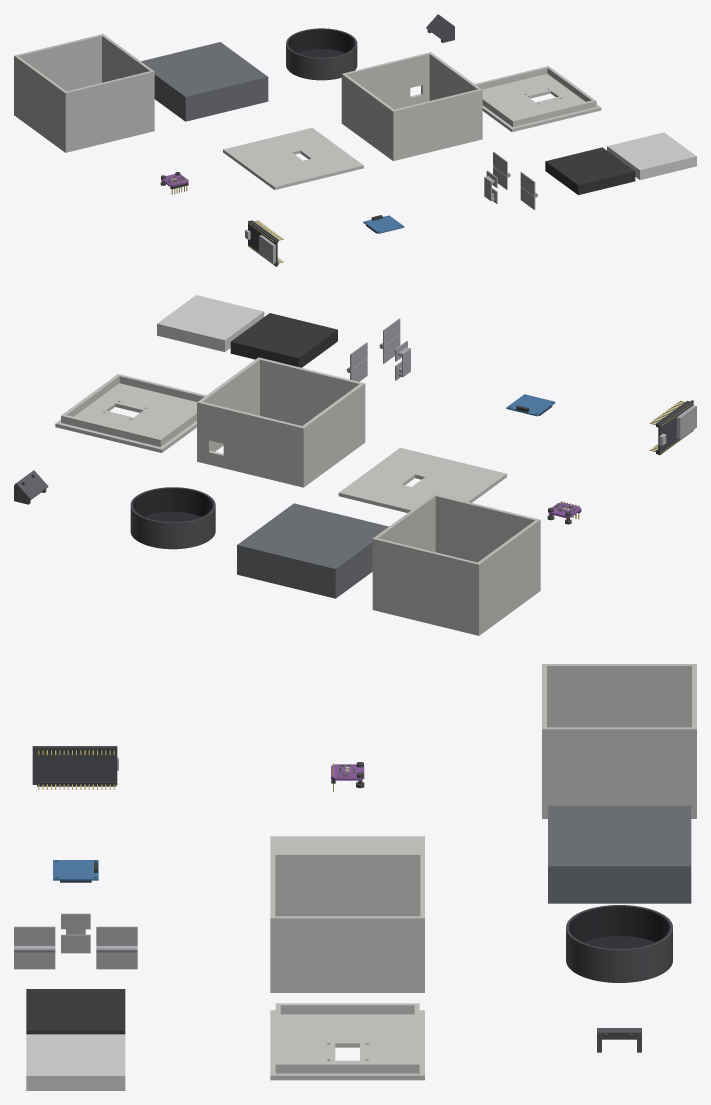
Rendered from katalog.glb.
3 renders of one model, top to bottom at view 1: azimuth 30°, elevation 25°; view 2: azimuth 150°, elevation 25°; view 3: azimuth 270°, elevation 25°, orthographic. The views are drawn at different scales.
Visible parts, largest first — view 1: k06__kepala_lantai, k01__baki_kiri, k02__busa_3, k07__kepala_kiri, k08__kepala_tutup, k01__baki_depan, k01__baki_kanan, k07__kepala_kanan, k07__kepala_depan, k12__kal_hitam, k12__kal_putih, k08__kepala_bibir (+12 smaller); view 2: k01__baki_kanan, k02__busa_3, k07__kepala_kanan, k06__kepala_lantai, k08__kepala_tutup, k01__baki_depan, k01__baki_kiri, k07__kepala_kiri, k07__kepala_depan, k12__kal_hitam, k12__kal_putih, k08__kepala_bibir (+12 smaller); view 3: k01__baki_belakang, k07__kepala_belakang, k02__busa_3, k07__kepala_depan, k01__baki_depan, k08__kepala_tutup, k12__kal_putih, k12__kal_hitam, k08__kepala_bibir, k03__tutup_cat, k03__beludru, k09__esp_pcb (+7 smaller).
Part boxes in pixels (x1,y1,x2,y2): k06__kepala_lantai: (223, 128, 363, 189); k01__baki_kiri: (67, 71, 151, 149); k02__busa_3: (141, 42, 268, 105); k07__kepala_kiri: (395, 89, 479, 160); k08__kepala_tutup: (482, 73, 601, 131); k01__baki_depan: (14, 55, 68, 149); k01__baki_kanan: (17, 34, 101, 91); k07__kepala_kanan: (345, 53, 429, 109); k07__kepala_depan: (341, 73, 395, 161); k12__kal_hitam: (545, 147, 635, 194); k12__kal_putih: (607, 132, 696, 179); k08__kepala_bibir: (475, 66, 596, 127); k01__baki_kanan: (376, 538, 477, 631); k02__busa_3: (237, 503, 388, 578); k07__kepala_kanan: (200, 402, 301, 486); k06__kepala_lantai: (338, 447, 506, 512); k08__kepala_tutup: (55, 383, 196, 452); k01__baki_depan: (475, 519, 540, 632); k01__baki_kiri: (435, 494, 536, 562); k07__kepala_kiri: (260, 358, 361, 425); k07__kepala_depan: (300, 382, 365, 487); k12__kal_hitam: (230, 313, 337, 367); k12__kal_putih: (157, 295, 264, 351); k08__kepala_bibir: (61, 374, 205, 446); k01__baki_belakang: (542, 727, 696, 814); k07__kepala_belakang: (270, 916, 424, 992); k02__busa_3: (548, 805, 691, 878); k07__kepala_depan: (270, 853, 424, 916); k01__baki_depan: (542, 664, 696, 727); k08__kepala_tutup: (270, 1010, 424, 1080); k12__kal_putih: (26, 1034, 125, 1090); k12__kal_hitam: (26, 989, 125, 1034); k08__kepala_bibir: (275, 1003, 419, 1073); k03__tutup_cat: (566, 905, 672, 982); k03__beludru: (568, 906, 670, 948); k09__esp_pcb: (32, 746, 117, 784).
Bounding box in the file's own units: 0.4845 × 0.06 × 0.4145.
